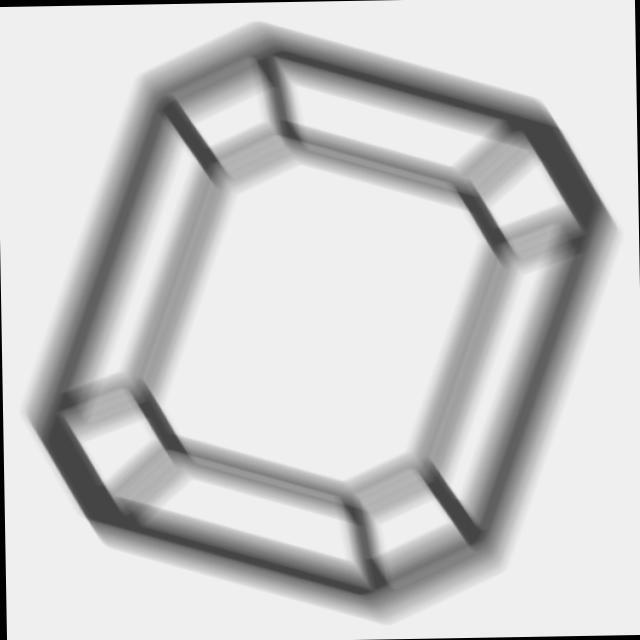emerald: (9, 6, 634, 640)
